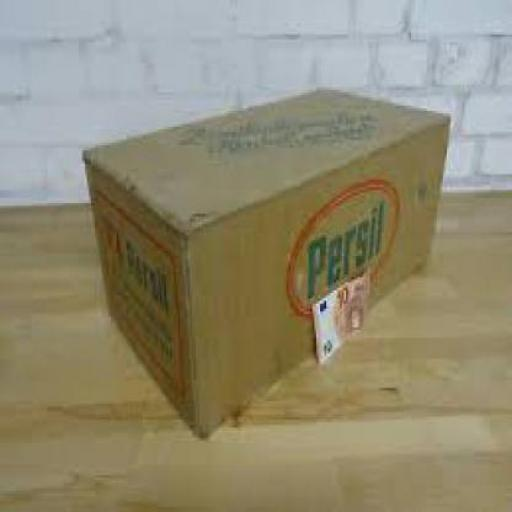cardboard: (85, 90, 449, 436)
